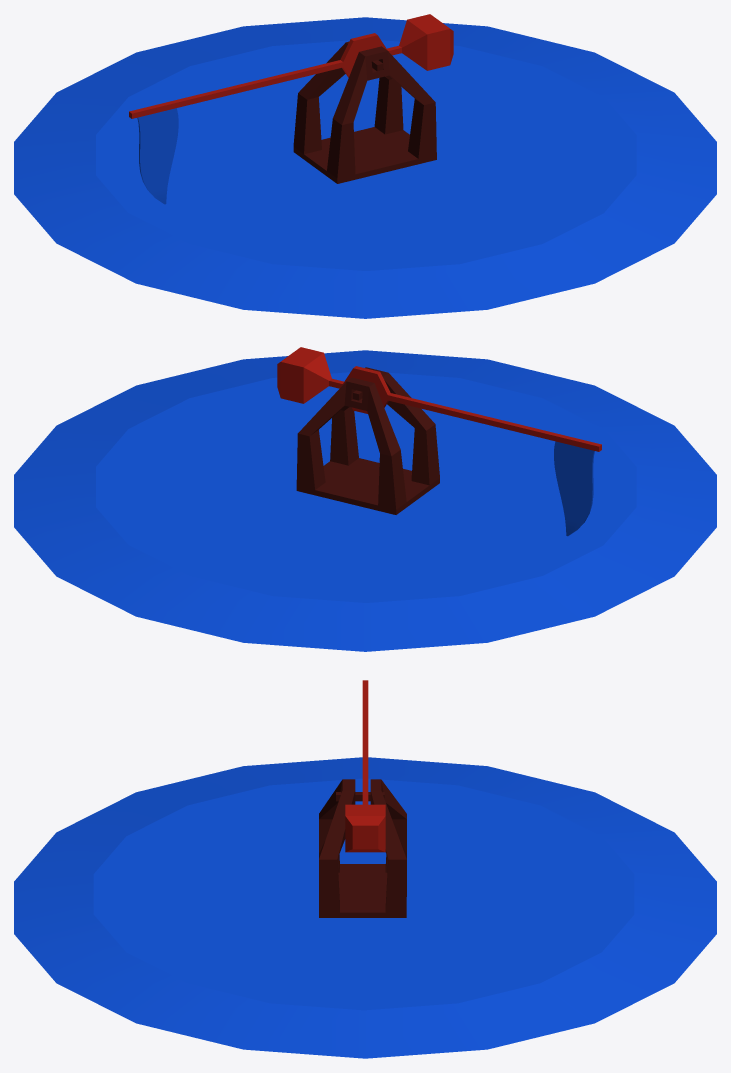
Rendered from Flag.FBX.
3 renders of one model, top to bottom at view 1: azimuth 30°, elevation 25°; view 2: azimuth 150°, elevation 25°; view 3: azimuth 270°, elevation 25°, orthographic.
Visible parts, largest first — view 1: Area, Base, Pole, Flag; view 2: Area, Base, Pole, Flag; view 3: Area, Base, Pole.
Boxes of the visible parts, x1,y1,x2,y2 form: Area: (14,17,716,318); Base: (293,41,436,183); Pole: (129,14,453,118); Flag: (137,108,178,204); Area: (14,350,716,651); Base: (296,367,439,514); Pole: (277,347,601,451); Flag: (554,441,594,536); Area: (14,757,716,1058); Base: (319,779,406,917); Pole: (345,680,385,852).
Bounding box in the file's own units: 7.35 × 1.49 × 7.24.
